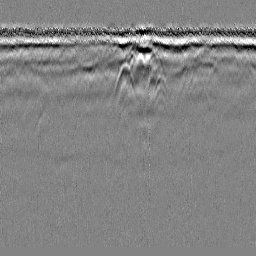cavity: (114, 59, 134, 96)
